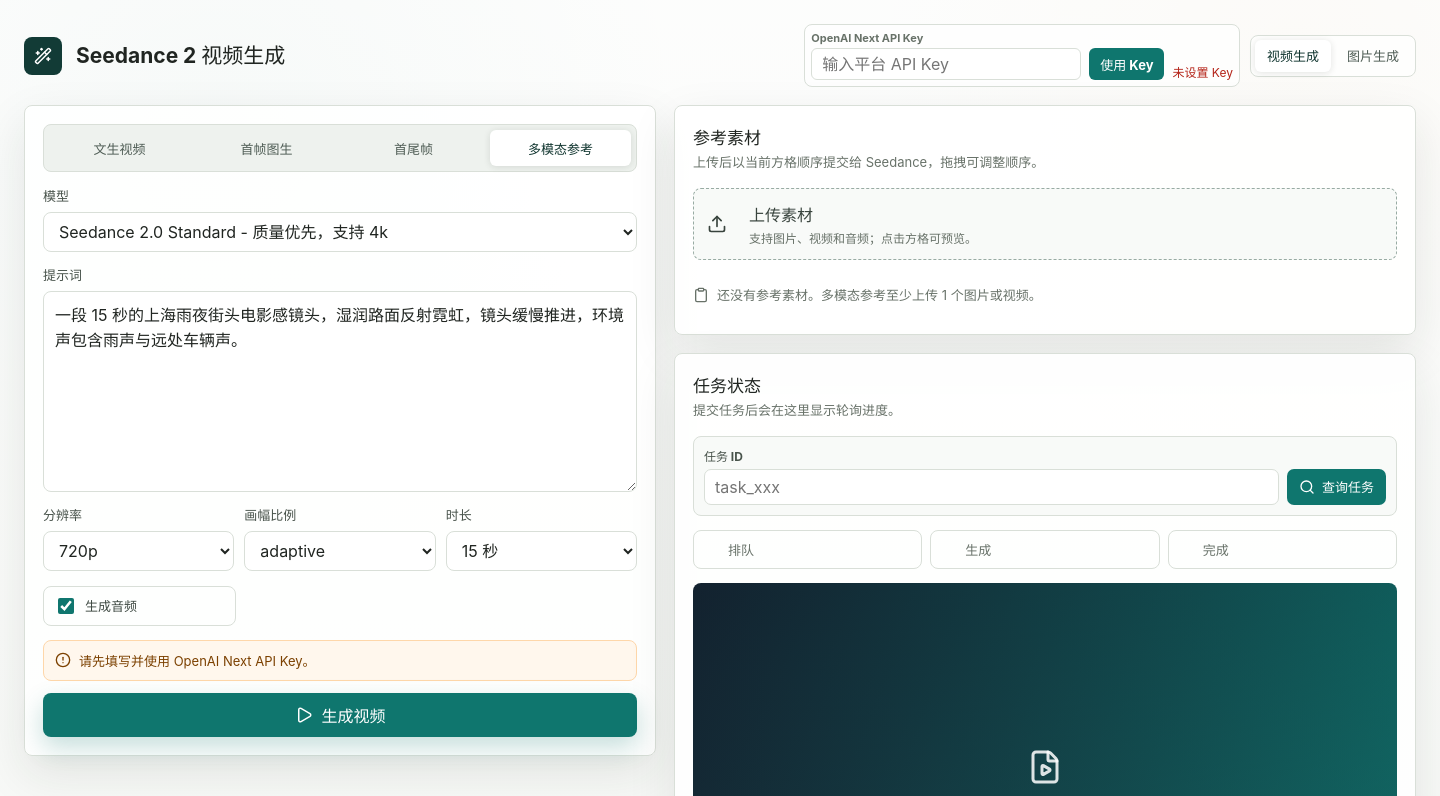
Test: App › switches to the GPT image generation workspace without exposing secrets
What coordinates should you click on to do the following:
click the button "图片生成"
I would click on:
 (1373, 56)
Its box is top-left (1335, 40), bottom-right (1411, 72).
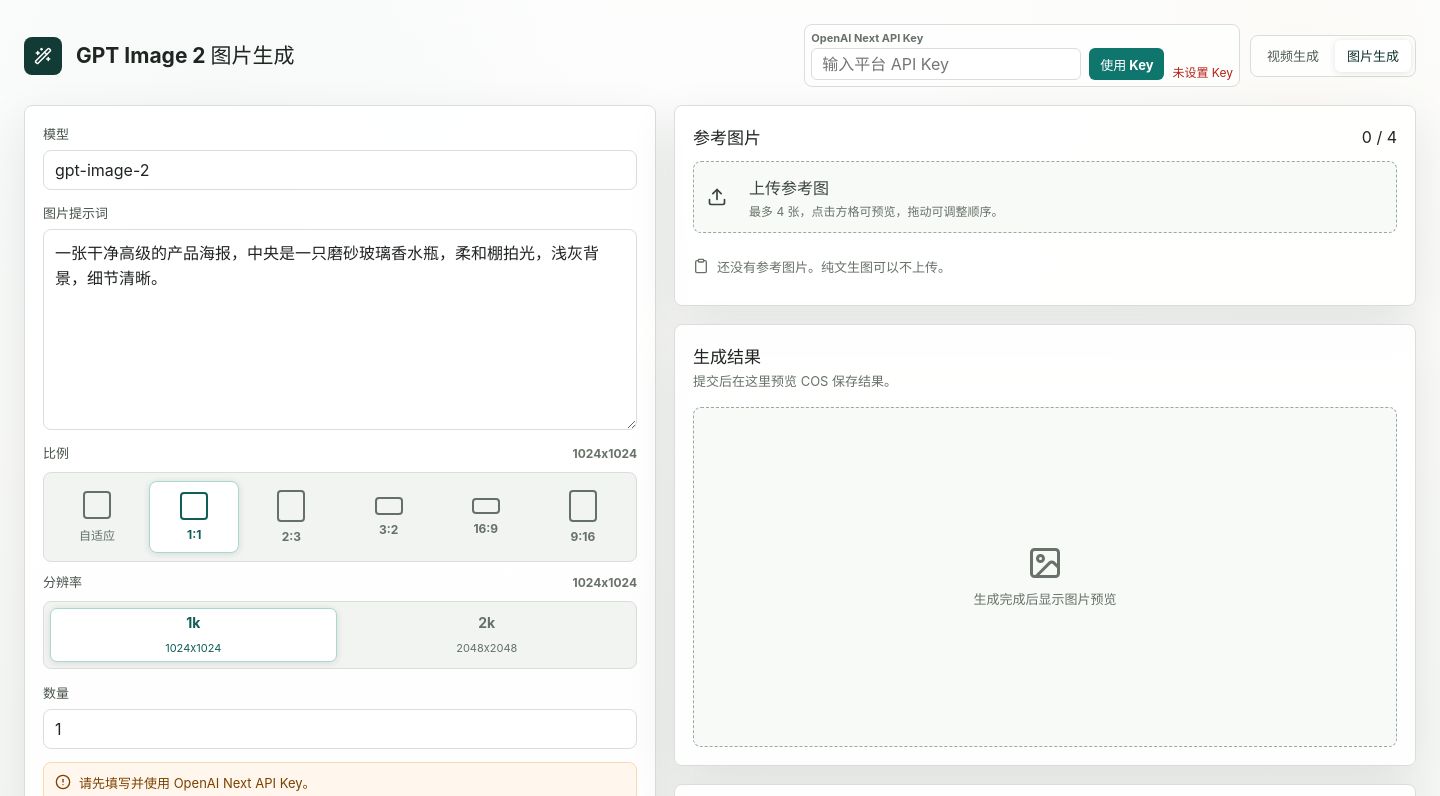
Expected: the heading "GPT Image 2 图片生成" is shown, top-left (76, 43), bottom-right (295, 68)
Expected: the text box labelled "图片提示词" is shown, top-left (44, 230), bottom-right (636, 429)
Expected: the heading "参考图片" is shown, top-left (693, 124), bottom-right (761, 149)
